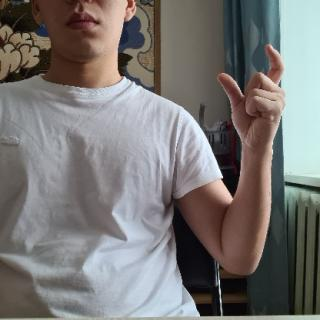NOON: (216, 39, 289, 153)
